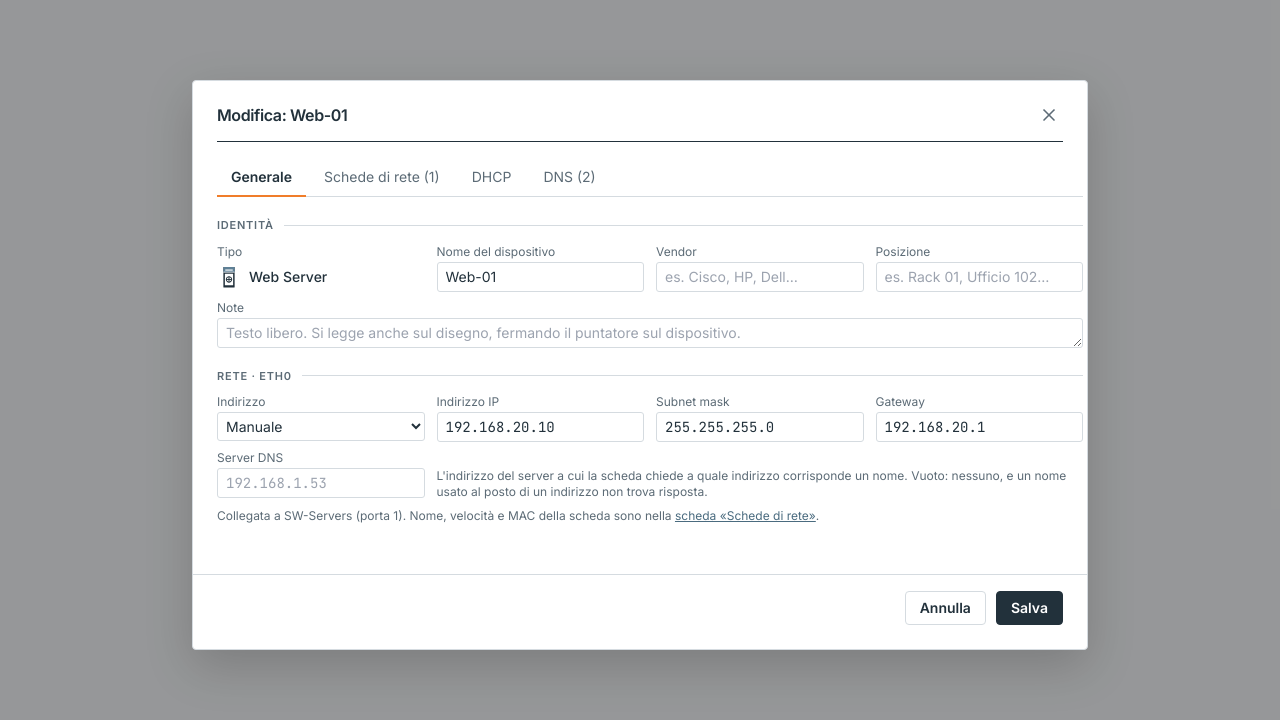
Test case: InspectorModal — the «DNS» tab of a server › shows the names saved when the window is opened again, in their order
Step 1. Click the button "DNS (2)" → x=570, y=178, box [529,158,610,197]
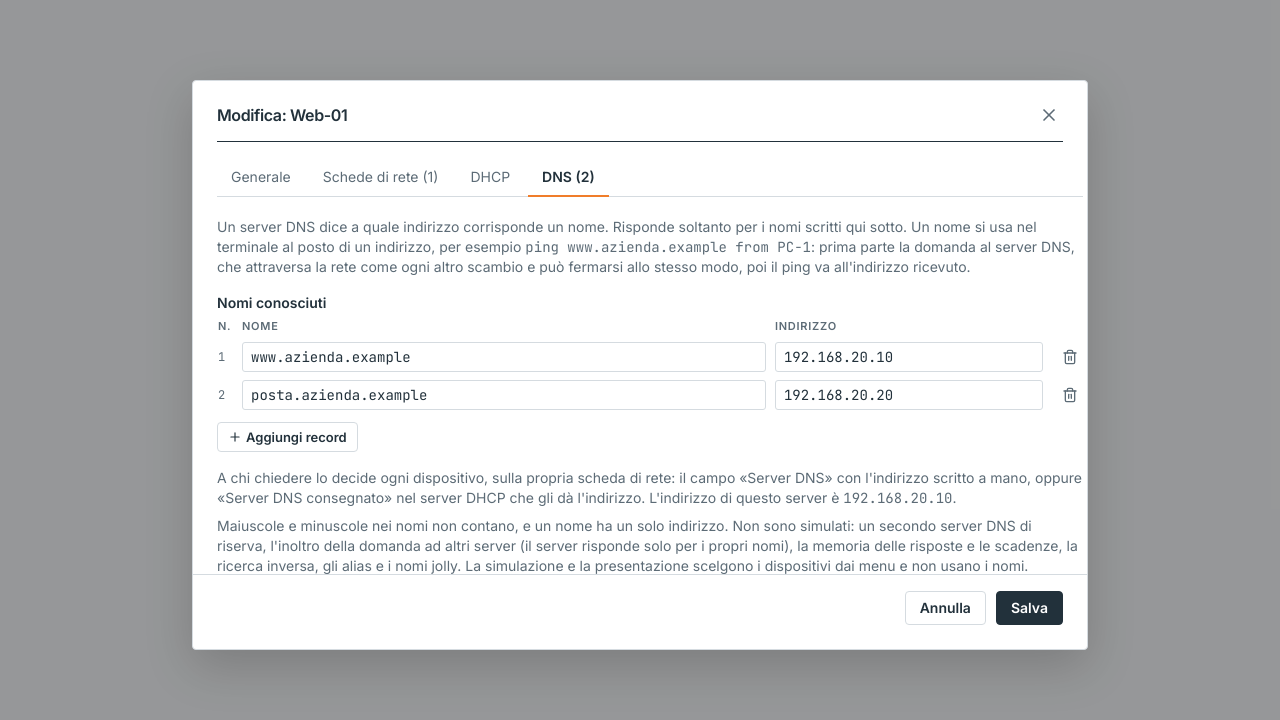
Check: the field named "Nome del record 1" holds "www.azienda.example", box [242,342,766,372]
Check: the field named "Indirizzo del record 1" holds "192.168.20.10", box [775,342,1043,372]
Check: the field named "Nome del record 2" holds "posta.azienda.example", box [242,380,766,410]
